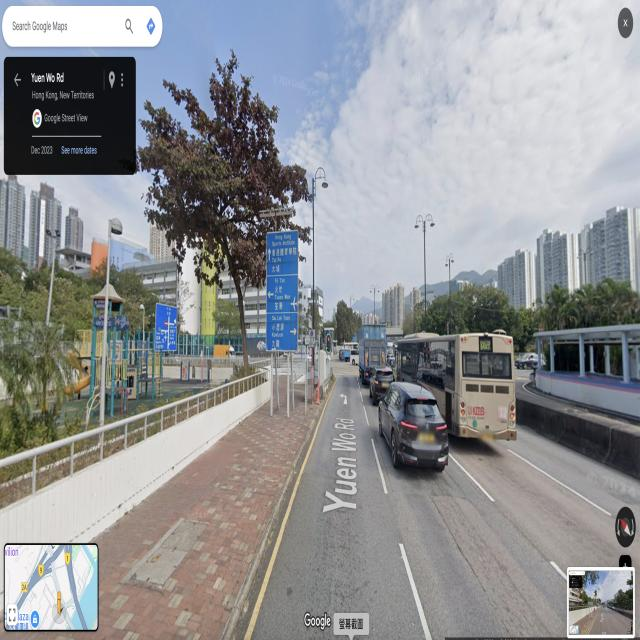Direction-Sign: (267, 231, 299, 350)
Street-Direction-Sign: (305, 335, 310, 345)
